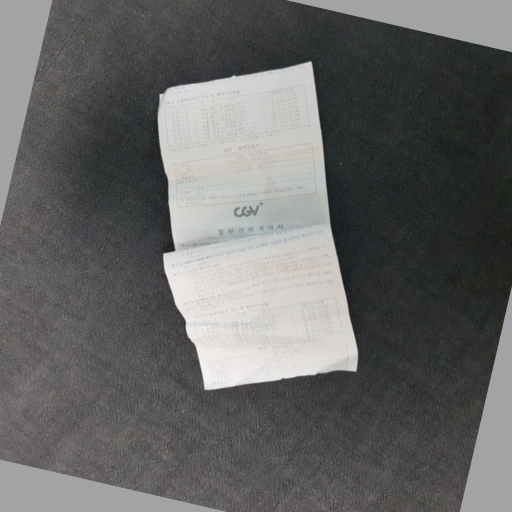Paper_3: (154, 50, 369, 407)
